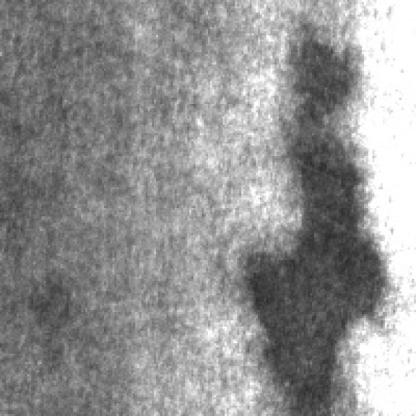patches: (245, 110, 387, 412), (279, 19, 362, 175)
